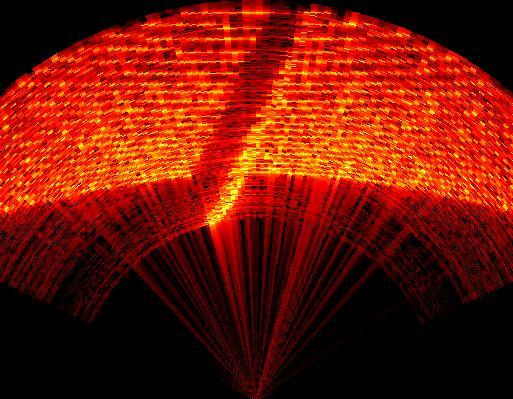pipe: (178, 2, 314, 217)
